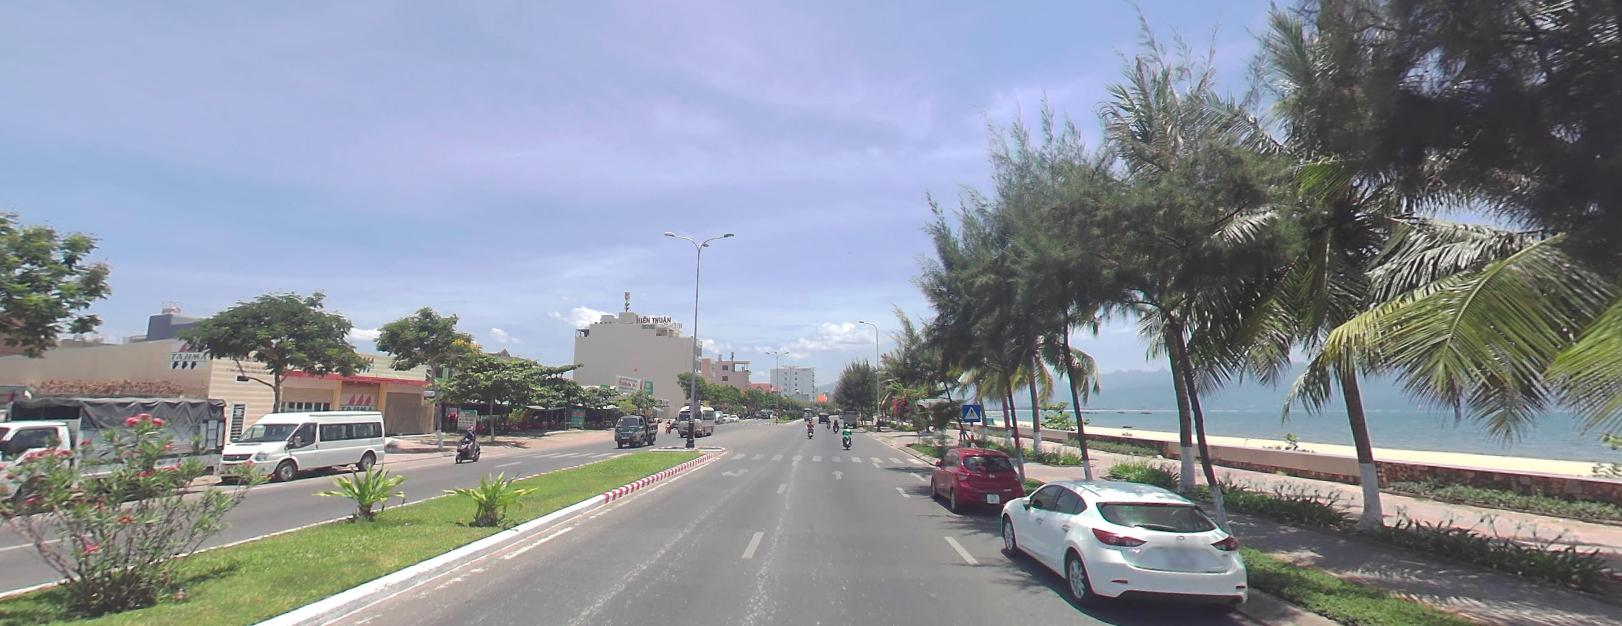Cam nguoc chieu: (774, 405, 779, 411)
